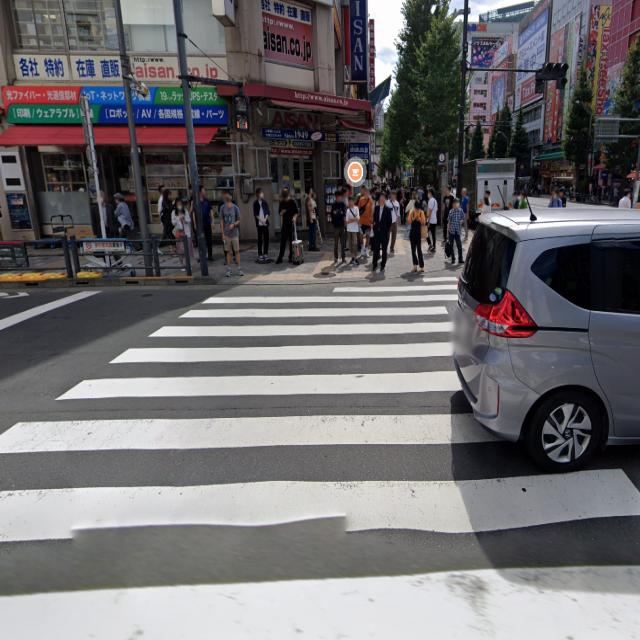traffic-light: (233, 93, 251, 133)
